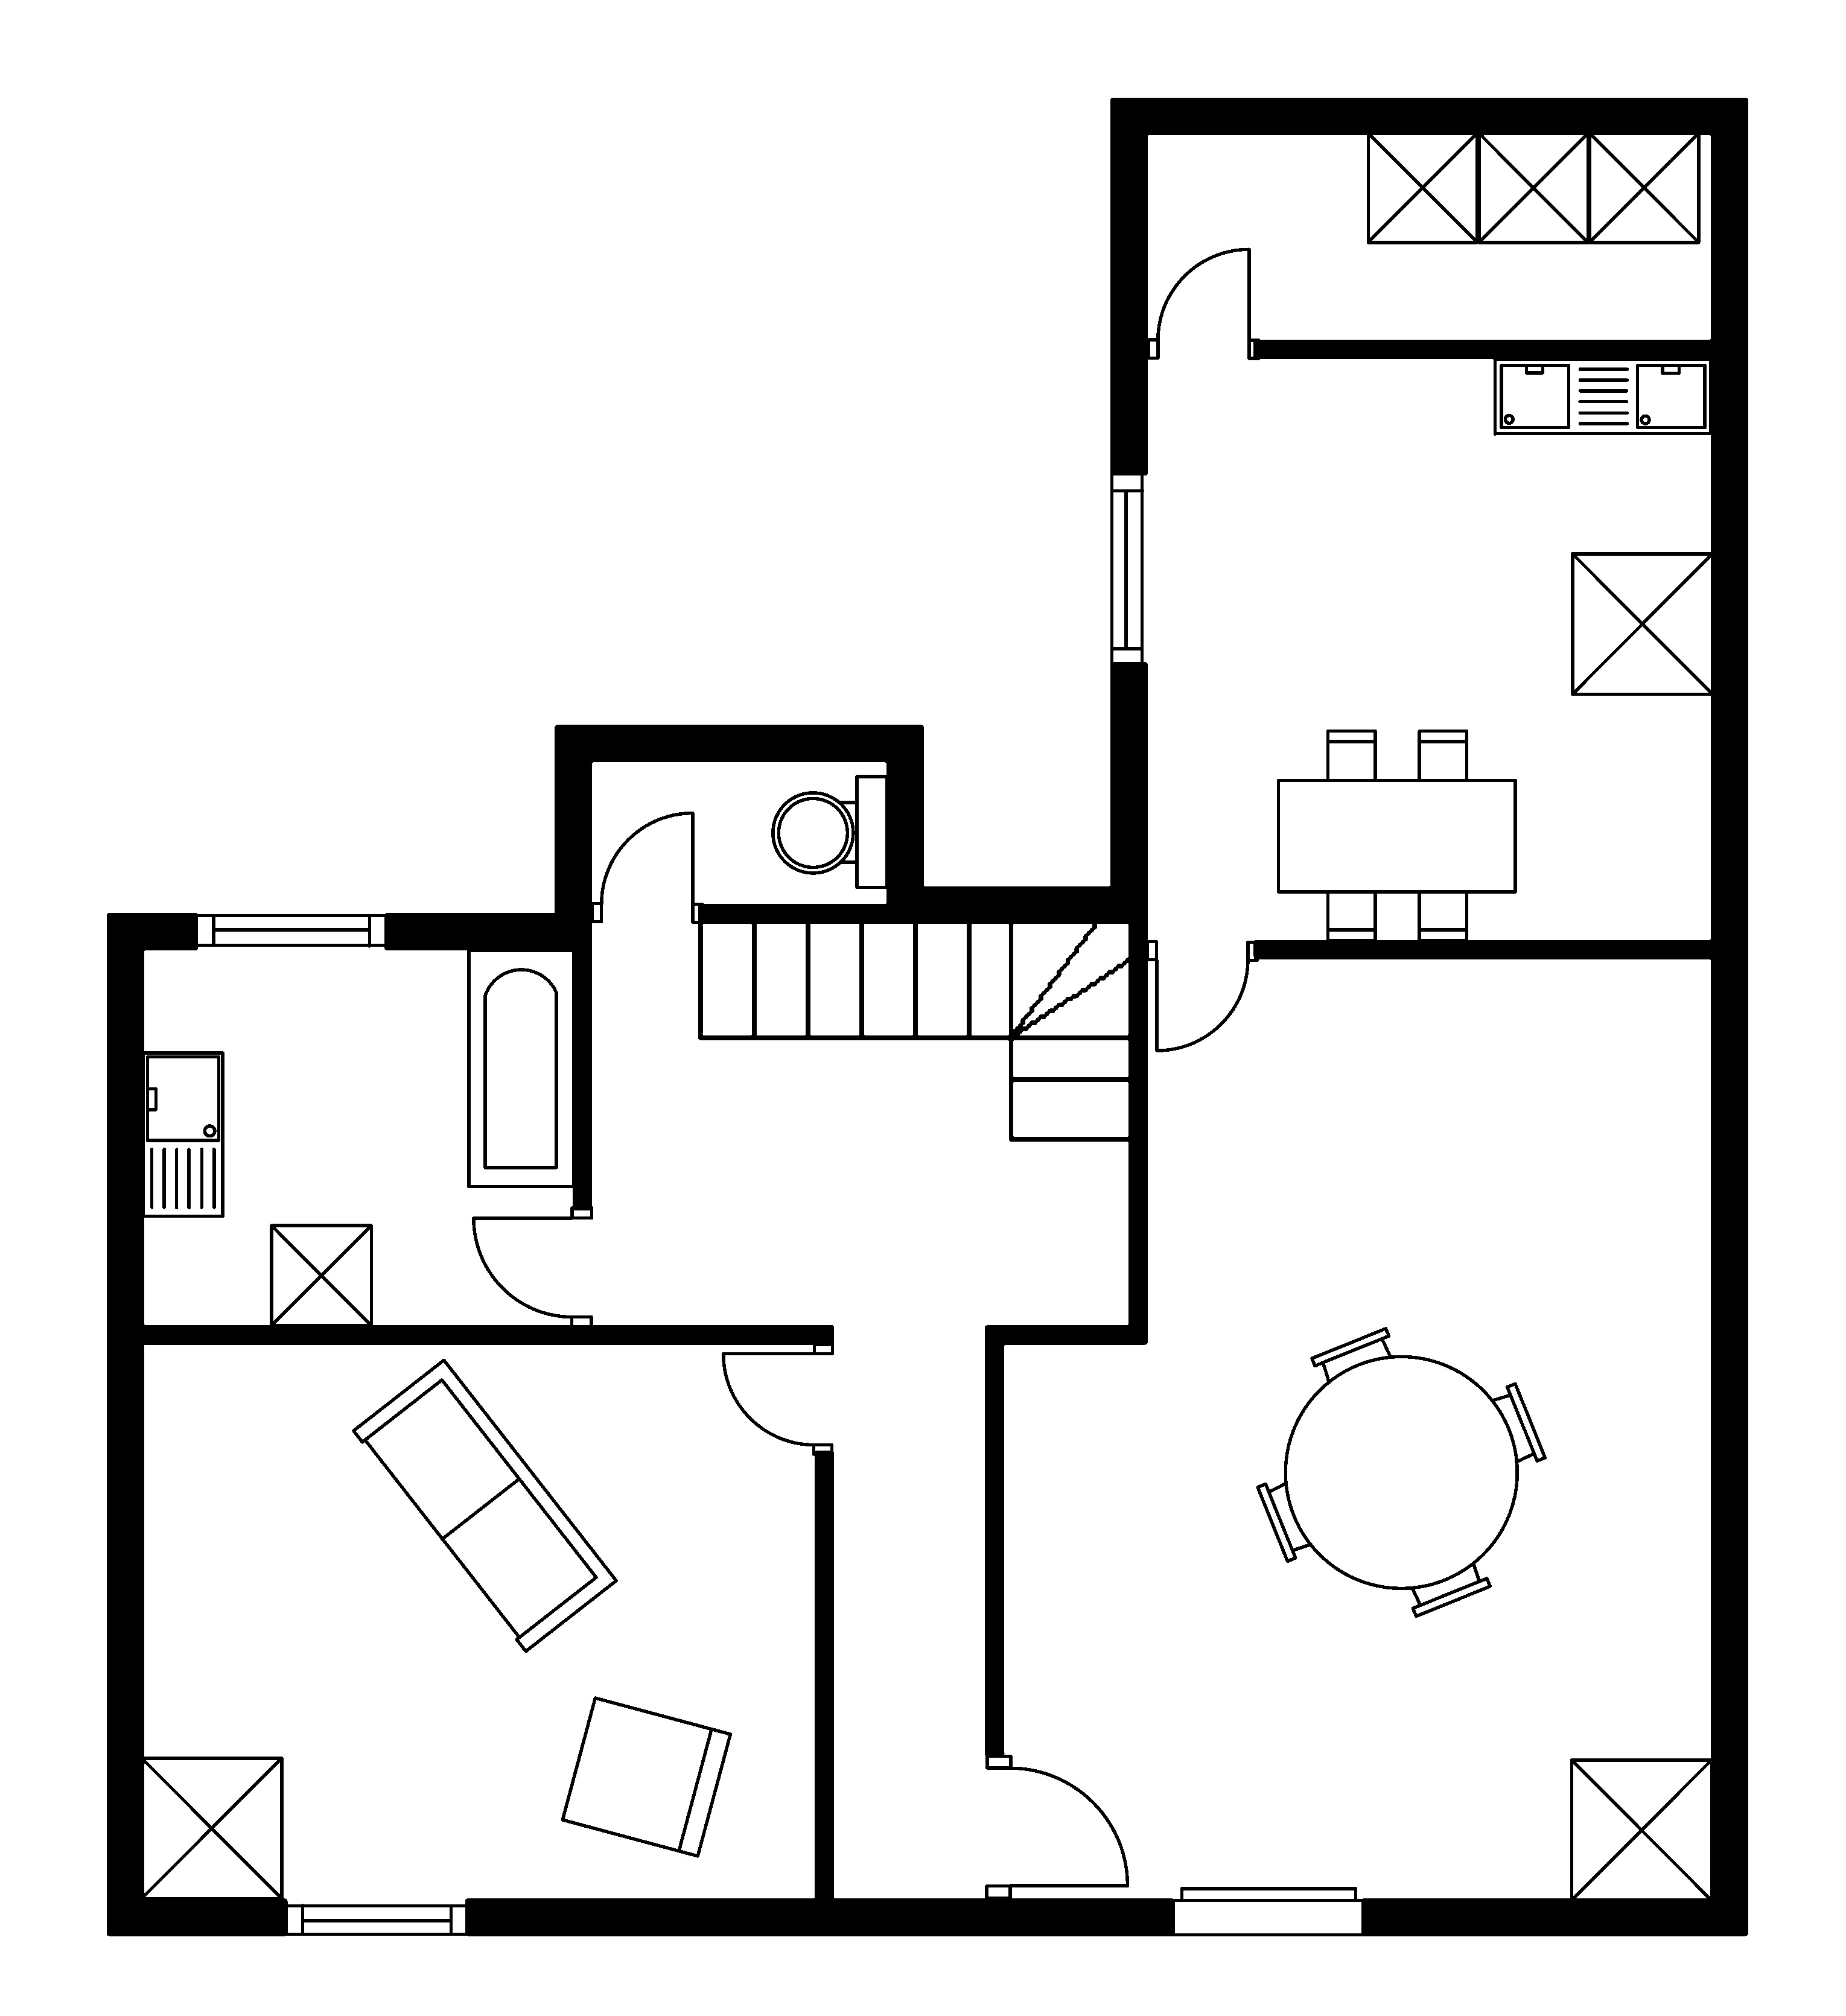coffee_table: (1568, 550, 1714, 697), (1568, 1756, 1714, 1902), (139, 1754, 285, 1900), (1586, 130, 1702, 246), (1475, 130, 1590, 246), (1365, 130, 1479, 246), (269, 1222, 374, 1328)
dining_table: (1275, 727, 1518, 943)
large_sink: (771, 773, 889, 889)
large_sofa: (350, 1357, 618, 1654)
round_table: (1254, 1326, 1547, 1619)
sink: (141, 1050, 225, 1219)
small_sofa: (559, 1695, 732, 1858)
tub: (465, 947, 576, 1189)
twin_sink: (1491, 356, 1713, 436)
